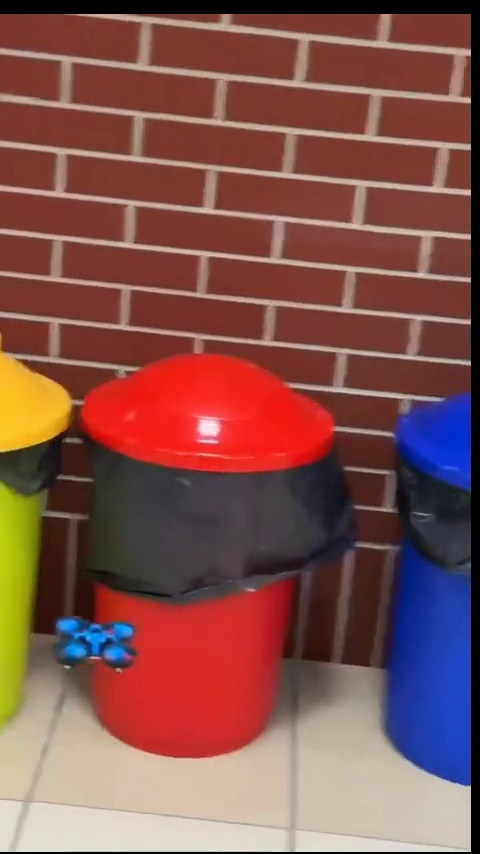drone: (57, 622, 138, 668)
